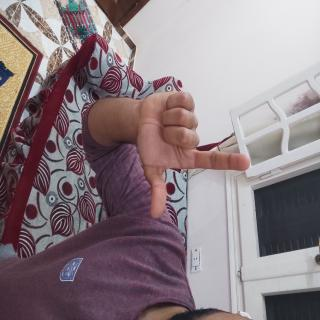LAAM: (61, 88, 168, 262)
